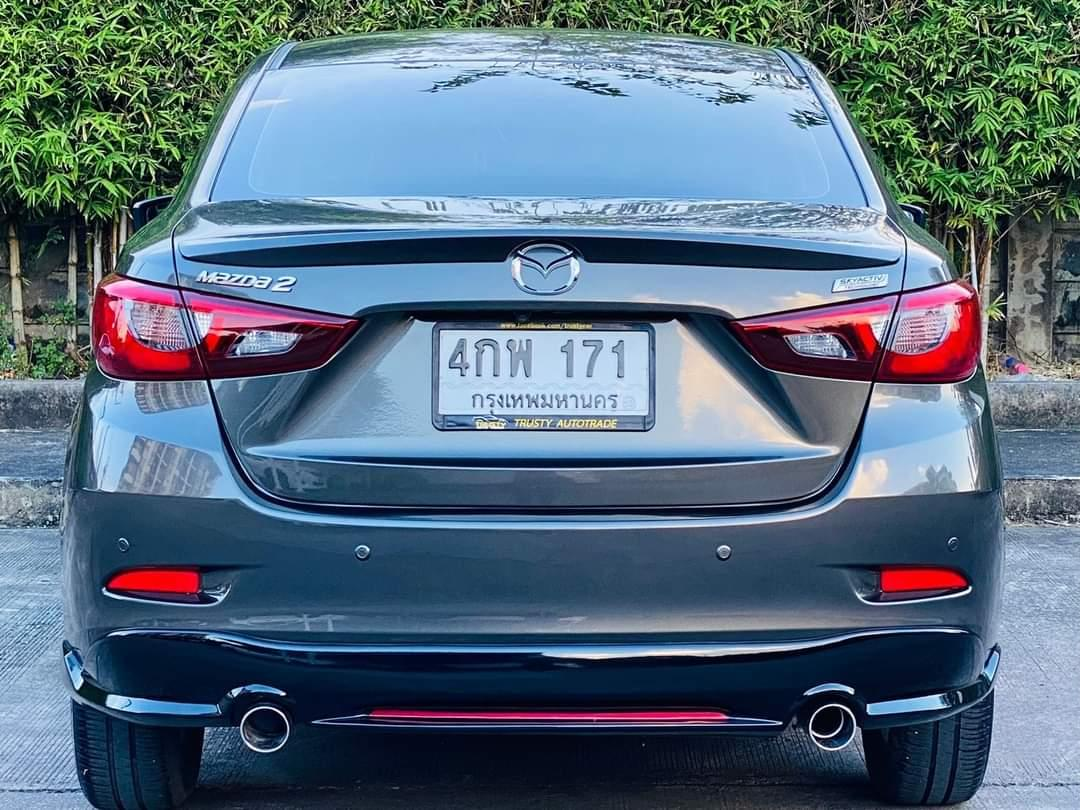license-plate: (429, 317, 658, 433)
